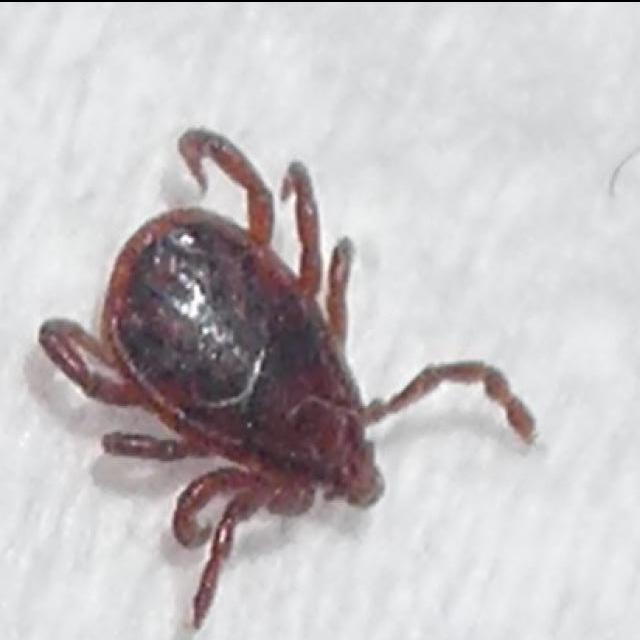Rhipicephalus Sanguineus-M: (37, 124, 534, 627)
